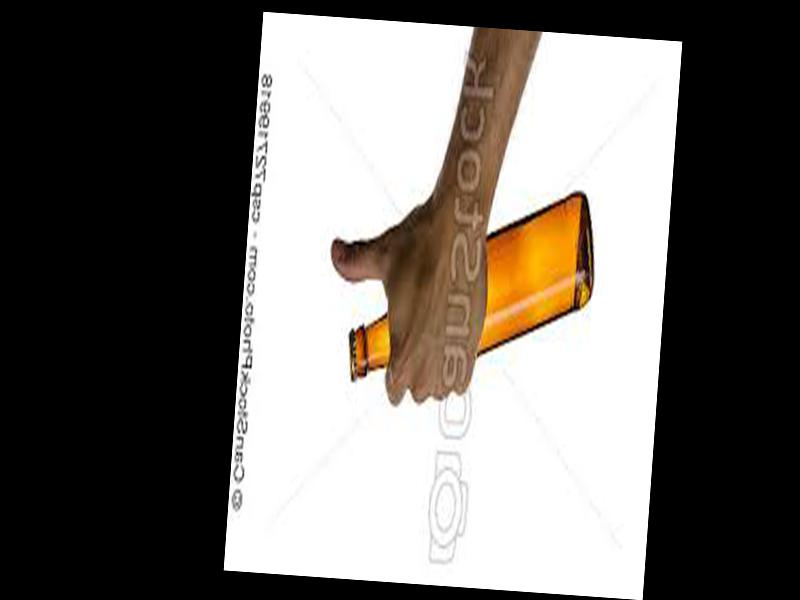Beer: (347, 175, 599, 395)
